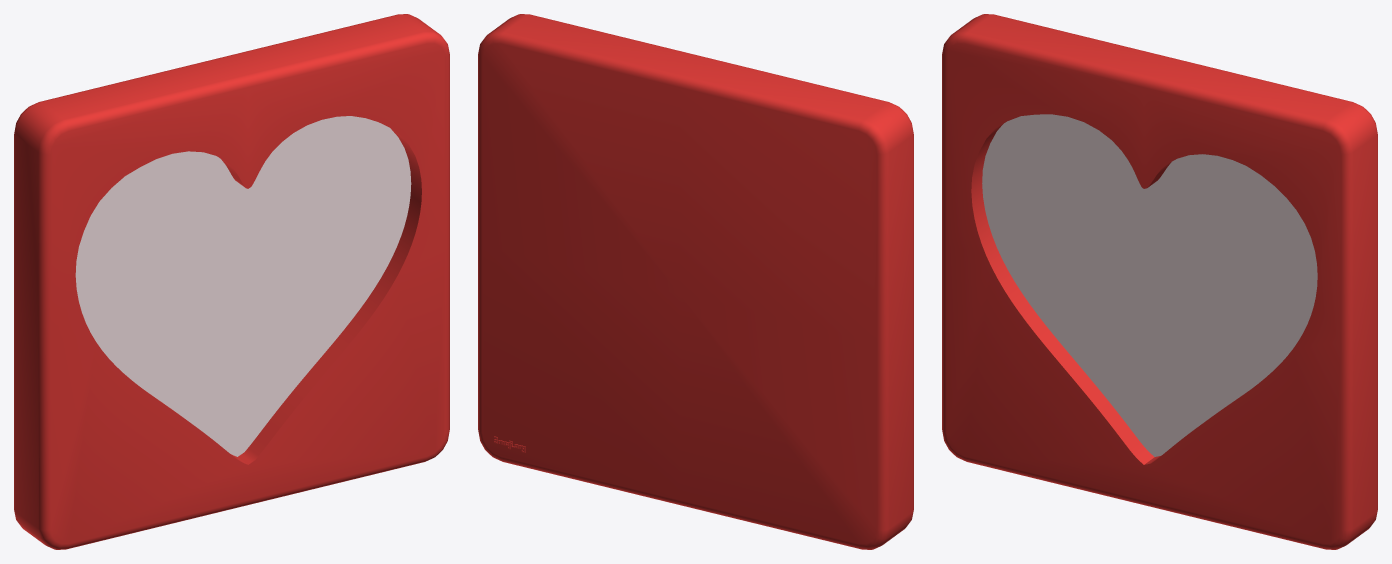
Rendered from heart_decoration.glb.
3 renders of one model, left to right at view 1: azimuth 30°, elevation 25°; view 2: azimuth 150°, elevation 25°; view 3: azimuth 330°, elevation 25°, orthographic.
Parts seen in each view (by area): view 1: hfdjkslfjkds.013; view 2: hfdjkslfjkds.013; view 3: hfdjkslfjkds.013.
Boxes of the visible parts, x1,y1,x2,y2 form: hfdjkslfjkds.013: [14, 14, 449, 549]; hfdjkslfjkds.013: [478, 14, 913, 549]; hfdjkslfjkds.013: [942, 14, 1377, 549].
Size of the model in its own units: 2.2 by 2.2 by 0.3038.
Materials: 1 (1 with a texture image).
